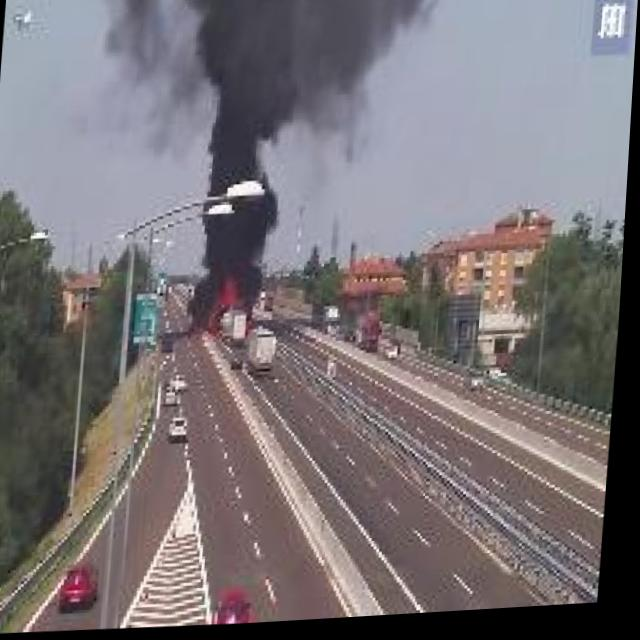fire: (203, 272, 250, 340)
